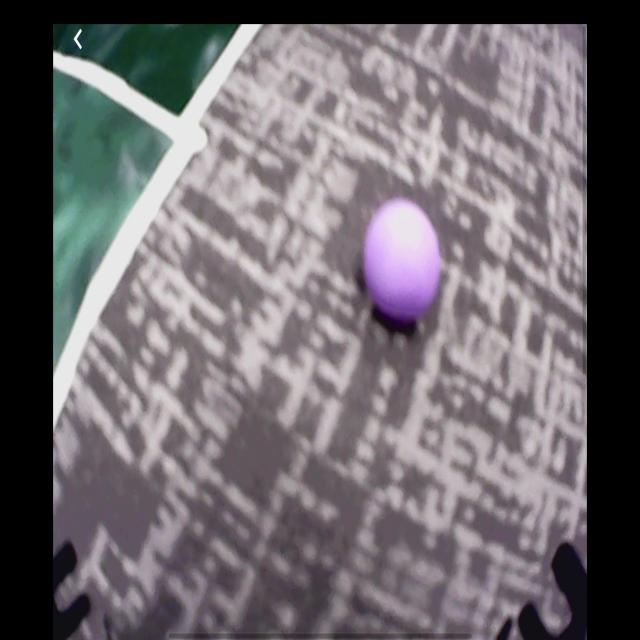ball: (364, 200, 440, 320)
